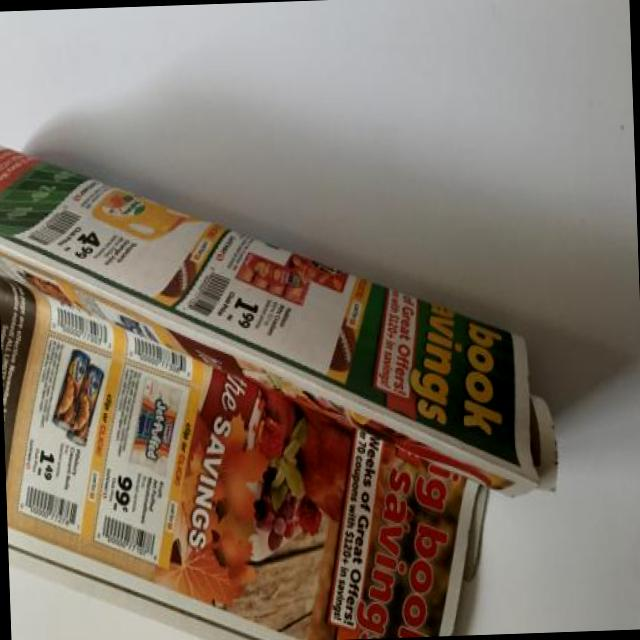paper: (0, 97, 531, 640)
